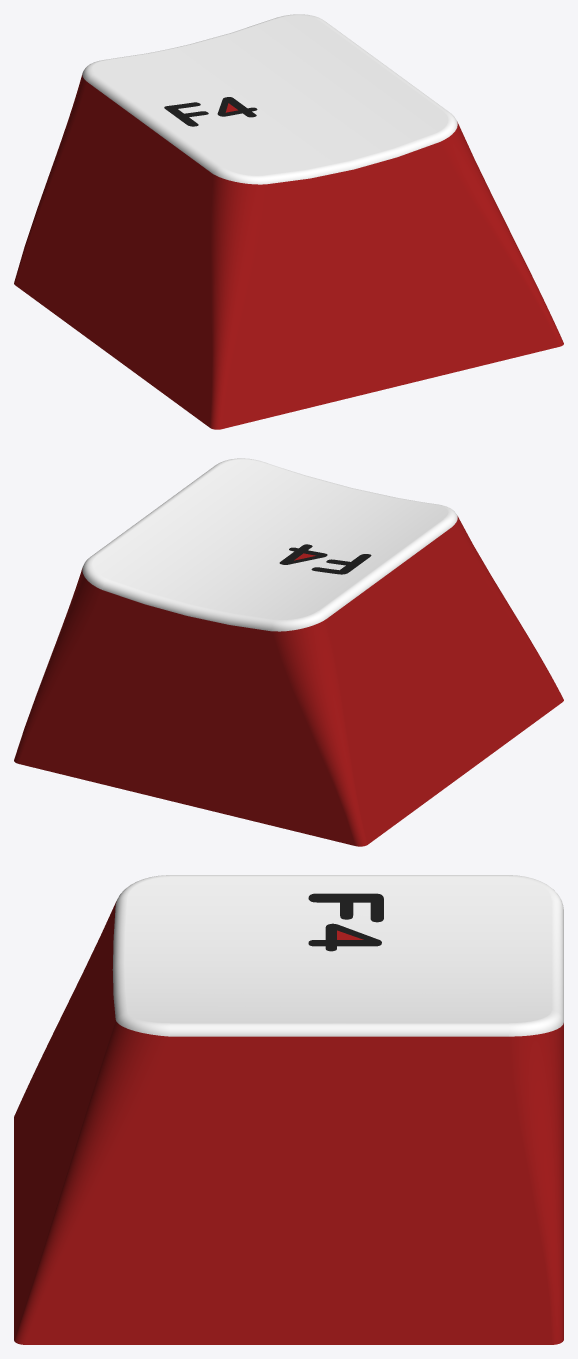
3 renders of one model, top to bottom at view 1: azimuth 30°, elevation 25°; view 2: azimuth 150°, elevation 25°; view 3: azimuth 270°, elevation 25°, orthographic. The views are drawn at different scales.
Visible parts, largest first — view 1: Body1; view 2: Body1; view 3: Body1.
Part boxes in pixels (x1=…): Body1: x1=14, y1=14, x2=563, y2=429; Body1: x1=14, y1=458, x2=563, y2=846; Body1: x1=14, y1=875, x2=563, y2=1344.
Bounding box in the file's own units: 18 × 10.07 × 18.
